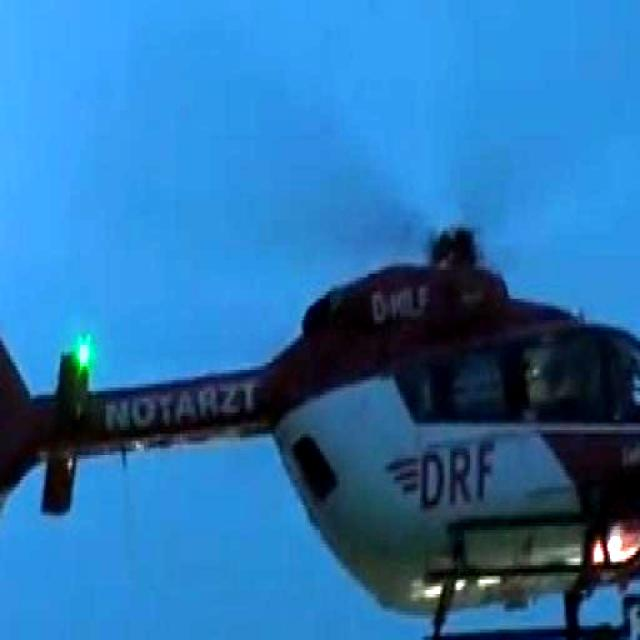drone: (0, 146, 640, 640)
